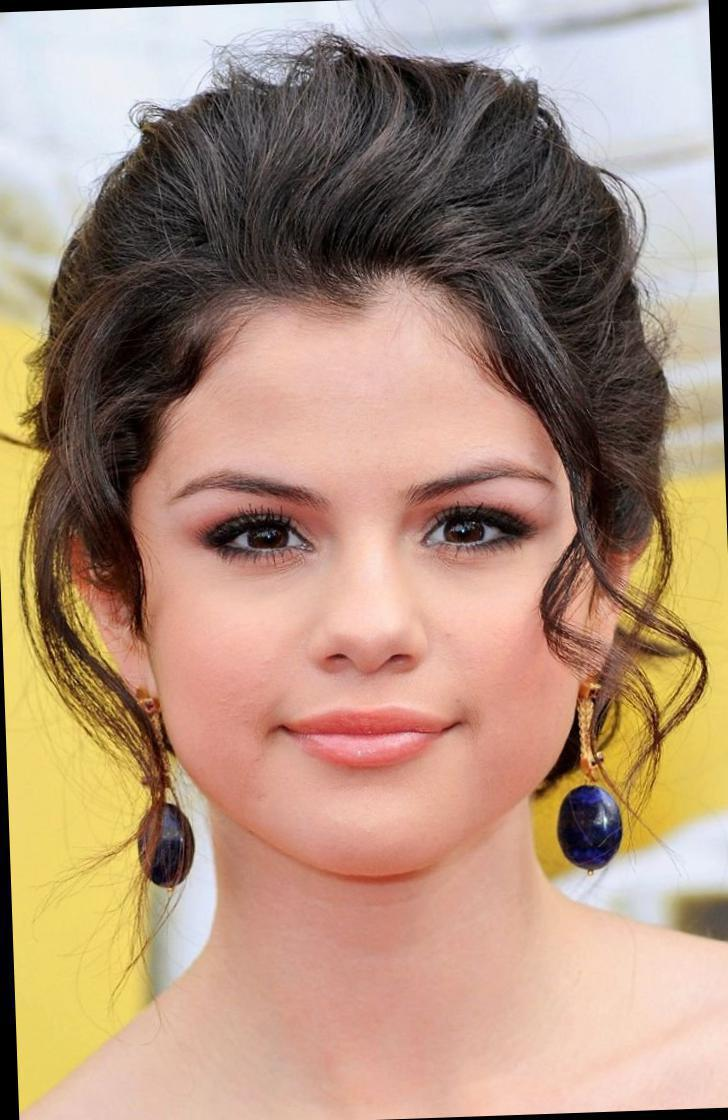Sober: (163, 331, 555, 843)
